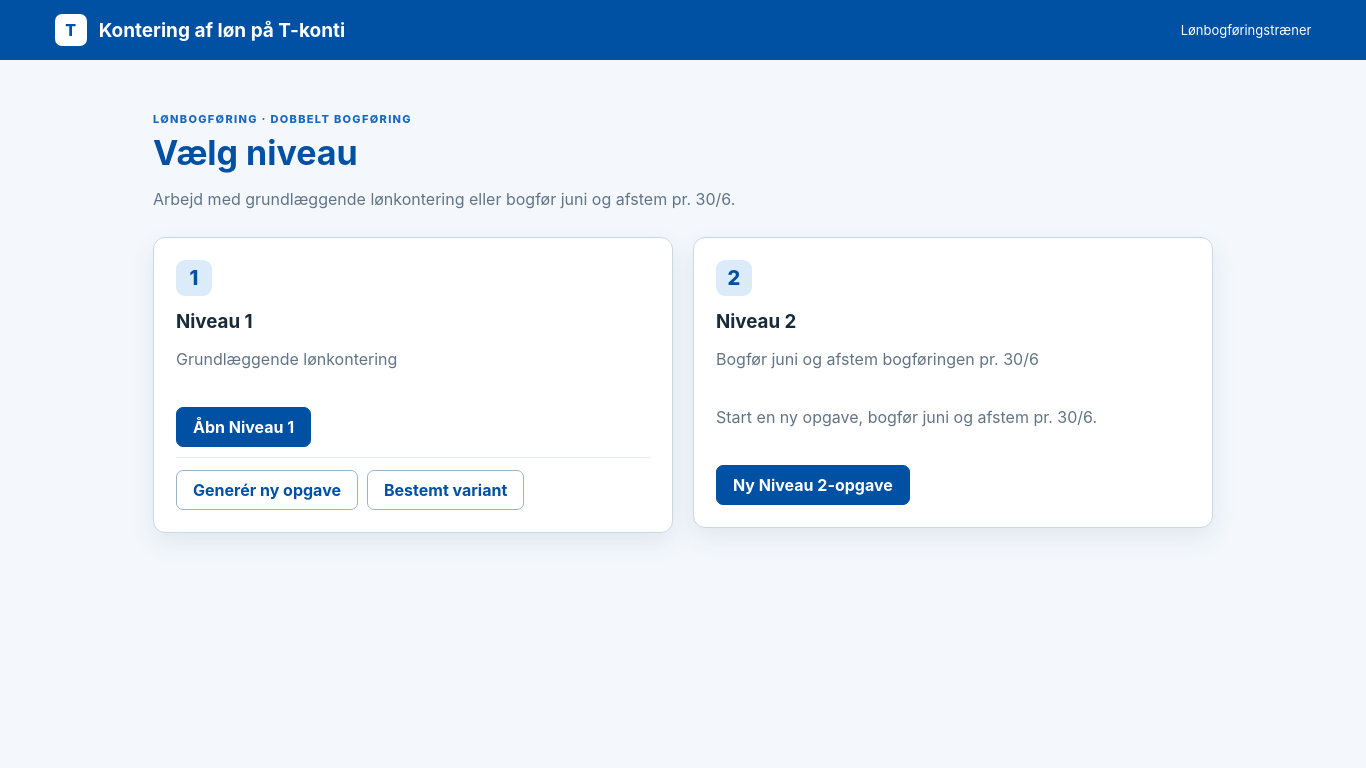
it: J3C active V2.1 Home and lifecycle integration › uses the secure injected random source and generates exactly once
What coordinates should you click on to do the following:
click the button "Ny Niveau 2-opgave"
I would click on:
 (813, 485)
Its box is [716, 465, 910, 505].
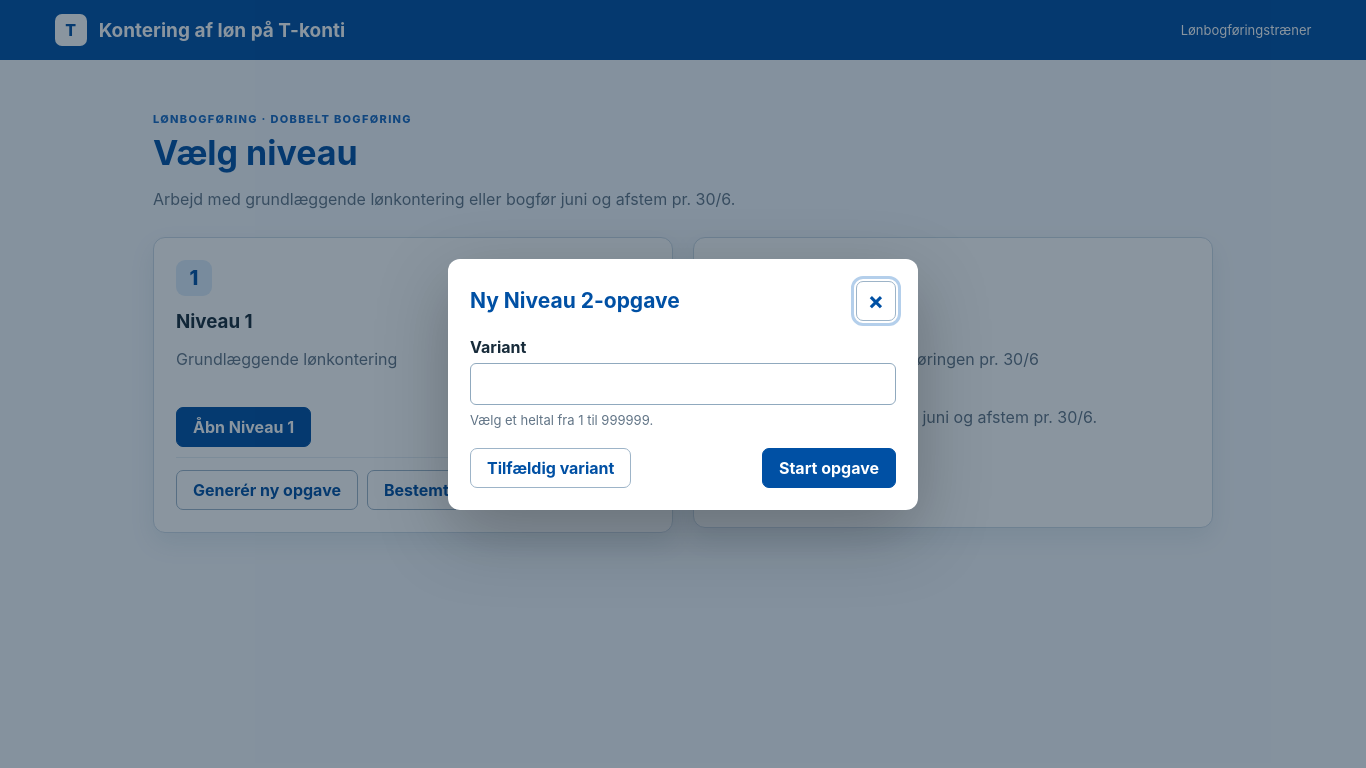
What coordinates should you click on to do the following:
click the button "Tilfældig variant"
I would click on:
 (551, 468)
Its box is [470, 448, 631, 488].
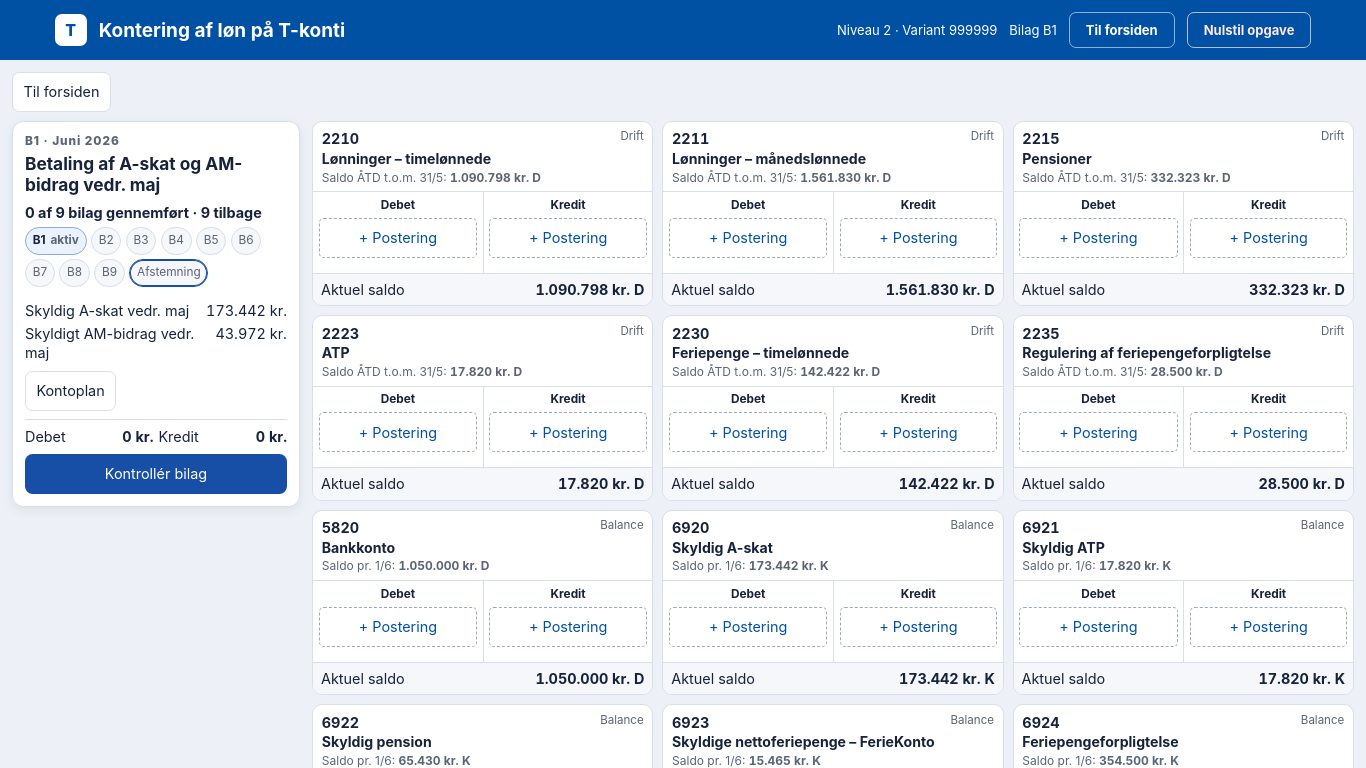
Expected: the text "Niveau 2 · Variant 999999" is shown, [837, 22, 997, 38]
